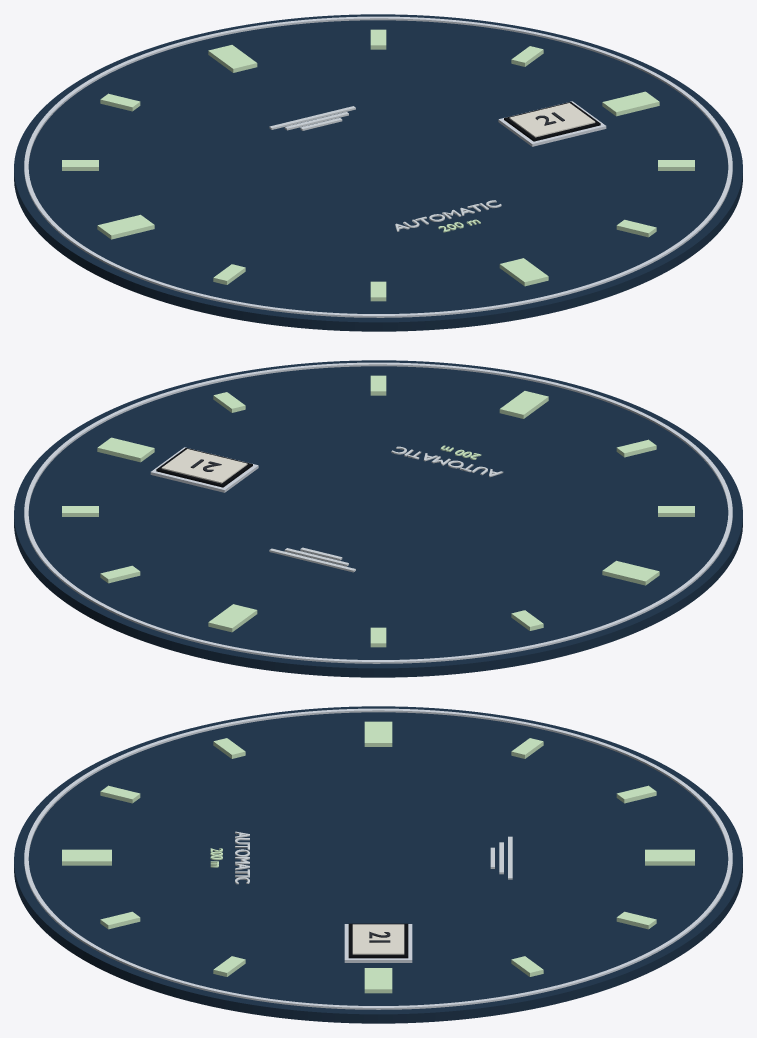
Rendered from dial.glb.
3 renders of one model, top to bottom at view 1: azimuth 30°, elevation 25°; view 2: azimuth 150°, elevation 25°; view 3: azimuth 270°, elevation 25°, orthographic.
Visible parts, largest first — view 1: DD_REF42_DIAL, DD_REF42_DIAL_MINUTE_TRACK, DD_REF42_DATE_CARD, DD_REF42_DIAL_MARKER_03, DD_REF42_DIAL_MARKER_09, DD_REF42_DIAL_MARKER_00, DD_REF42_DIAL_MARKER_06, DD_REF42_DATE_FRAME, DD_REF42_DIAL_TEXT_AUTOMATIC, DD_REF42_DATE_RECESS; view 2: DD_REF42_DIAL, DD_REF42_DIAL_MINUTE_TRACK, DD_REF42_DATE_CARD, DD_REF42_DIAL_MARKER_03, DD_REF42_DIAL_MARKER_09, DD_REF42_DIAL_MARKER_00, DD_REF42_DIAL_MARKER_06, DD_REF42_DATE_FRAME, DD_REF42_DIAL_TEXT_AUTOMATIC, DD_REF42_DATE_RECESS; view 3: DD_REF42_DIAL, DD_REF42_DIAL_MINUTE_TRACK, DD_REF42_DATE_CARD, DD_REF42_DIAL_MARKER_00, DD_REF42_DIAL_MARKER_06, DD_REF42_DIAL_MARKER_03, DD_REF42_DIAL_MARKER_09, DD_REF42_DATE_RECESS, DD_REF42_DATE_FRAME, DD_REF42_DIAL_TEXT_AUTOMATIC.
Part boxes in pixels (<box>): DD_REF42_DIAL: <box>14,14,742,331</box>; DD_REF42_DIAL_MINUTE_TRACK: <box>24,16,732,317</box>; DD_REF42_DATE_CARD: <box>509,103,595,137</box>; DD_REF42_DIAL_MARKER_03: <box>602,91,659,116</box>; DD_REF42_DIAL_MARKER_09: <box>97,214,154,239</box>; DD_REF42_DIAL_MARKER_00: <box>208,45,257,72</box>; DD_REF42_DIAL_MARKER_06: <box>499,258,548,286</box>; DD_REF42_DATE_FRAME: <box>498,101,606,146</box>; DD_REF42_DIAL_TEXT_AUTOMATIC: <box>395,200,501,231</box>; DD_REF42_DATE_RECESS: <box>504,102,600,141</box>; DD_REF42_DIAL: <box>14,360,742,677</box>; DD_REF42_DIAL_MINUTE_TRACK: <box>24,362,732,663</box>; DD_REF42_DATE_CARD: <box>161,449,247,483</box>; DD_REF42_DIAL_MARKER_03: <box>97,437,154,462</box>; DD_REF42_DIAL_MARKER_09: <box>602,560,659,585</box>; DD_REF42_DIAL_MARKER_00: <box>208,604,257,632</box>; DD_REF42_DIAL_MARKER_06: <box>499,391,548,418</box>; DD_REF42_DATE_FRAME: <box>150,447,258,492</box>; DD_REF42_DIAL_TEXT_AUTOMATIC: <box>391,446,503,477</box>; DD_REF42_DATE_RECESS: <box>156,448,252,487</box>; DD_REF42_DIAL: <box>14,706,742,1023</box>; DD_REF42_DIAL_MINUTE_TRACK: <box>24,708,732,1009</box>; DD_REF42_DATE_CARD: <box>352,924,404,954</box>; DD_REF42_DIAL_MARKER_00: <box>645,849,694,865</box>; DD_REF42_DIAL_MARKER_06: <box>62,849,111,865</box>; DD_REF42_DIAL_MARKER_03: <box>364,968,392,993</box>; DD_REF42_DIAL_MARKER_09: <box>364,721,392,746</box>; DD_REF42_DATE_RECESS: <box>348,923,408,958</box>; DD_REF42_DATE_FRAME: <box>344,924,412,962</box>; DD_REF42_DIAL_TEXT_AUTOMATIC: <box>235,831,249,884</box>.
Size of the model in its own units: 28.5 by 0.724 by 28.5.
